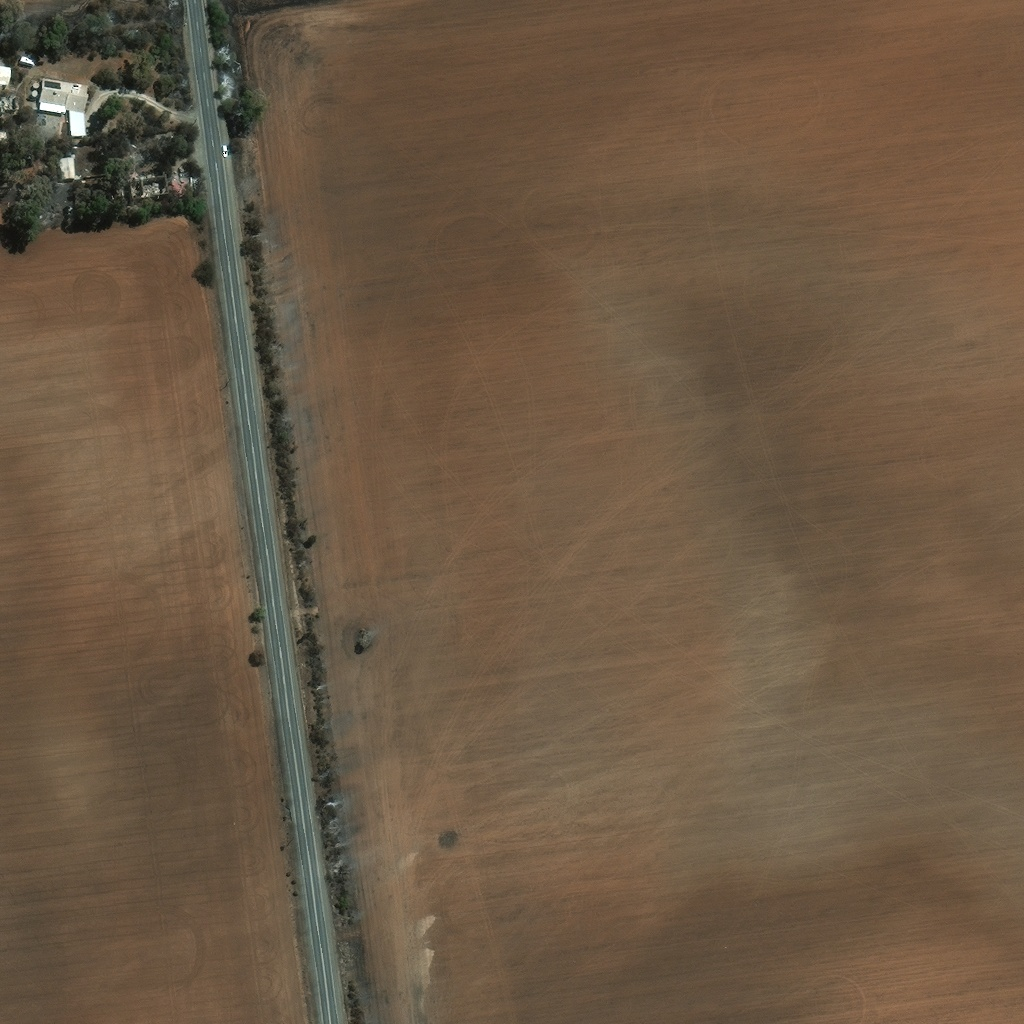0 no-damage: (40, 75, 89, 135), (60, 155, 78, 178), (0, 64, 13, 86), (20, 56, 36, 66), (33, 80, 40, 86), (33, 88, 39, 95)
3 destroyed: (125, 171, 169, 199), (173, 174, 192, 192), (0, 94, 17, 111)
4 un-classified: (0, 120, 10, 138)
